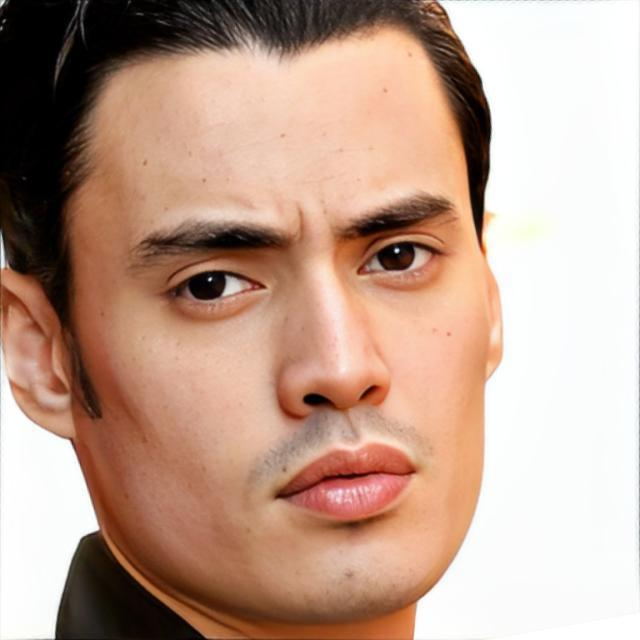anger: (84, 31, 493, 626)
